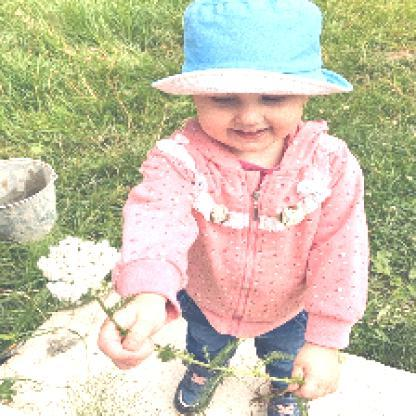child: (98, 1, 373, 415)
